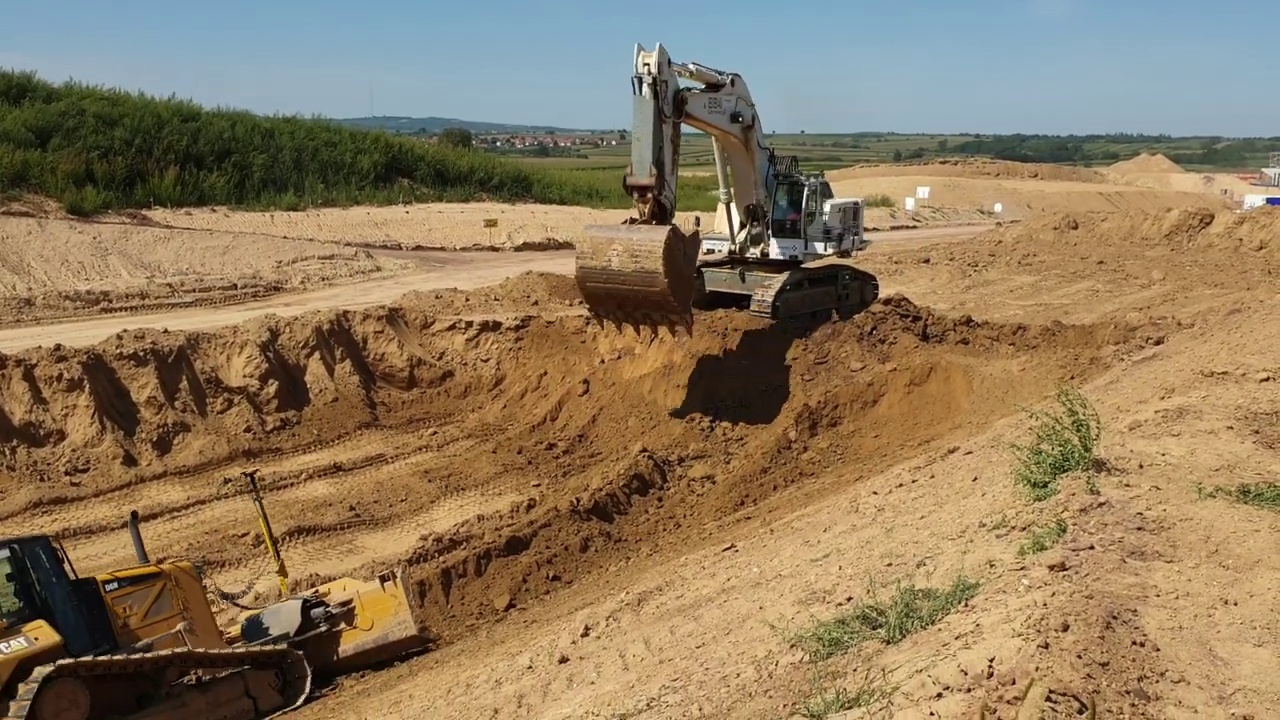bulldozer: (2, 467, 428, 720)
excavator: (571, 40, 884, 338)
